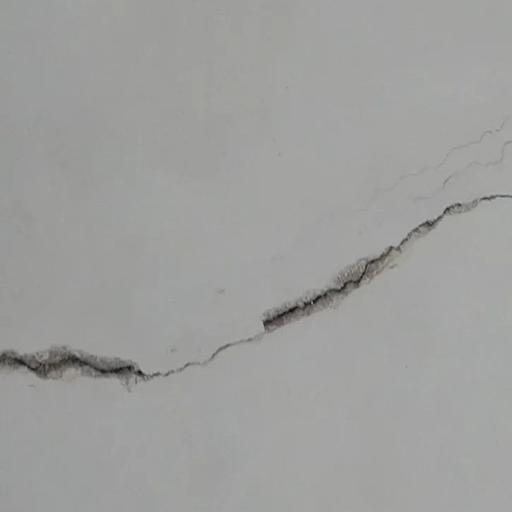major_crack: (0, 185, 512, 399)
